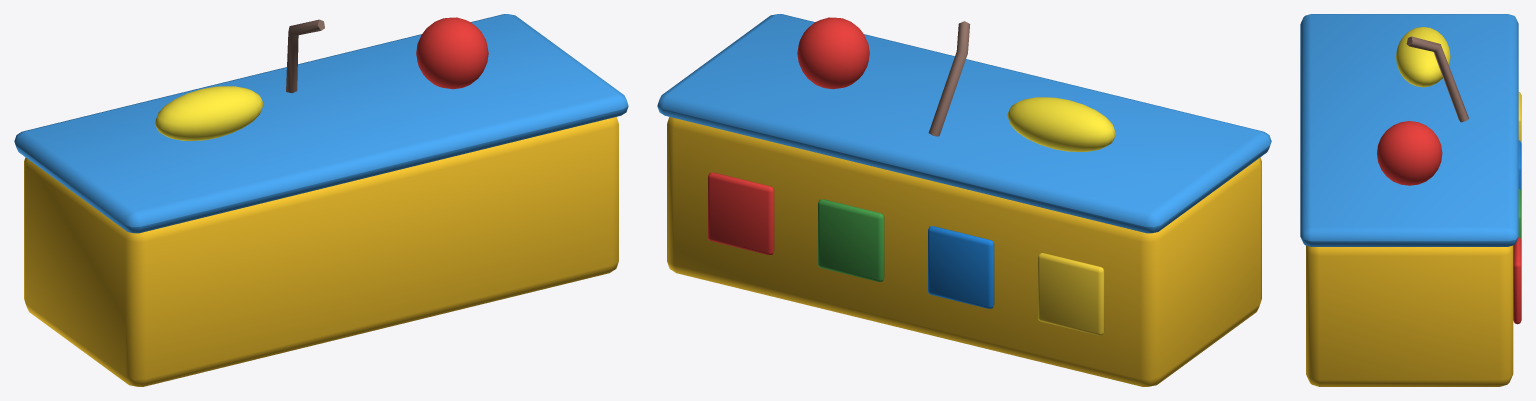
The model's file is toy_box.fbx.
The picture shows the model from 3 angles, left to right: view 1: azimuth 30°, elevation 25°; view 2: azimuth 150°, elevation 25°; view 3: azimuth 270°, elevation 25°; orthographic projection. The views are drawn at different scales.
Visible parts, largest first — view 1: Toy Box; view 2: Toy Box; view 3: Toy Box.
Part boxes in pixels (x1,y1,x2,y2): Toy Box: [14, 14, 628, 386]; Toy Box: [657, 14, 1271, 386]; Toy Box: [1300, 14, 1521, 386].
Bounding box in the file's own units: 1.92 × 0.9983 × 0.81.
